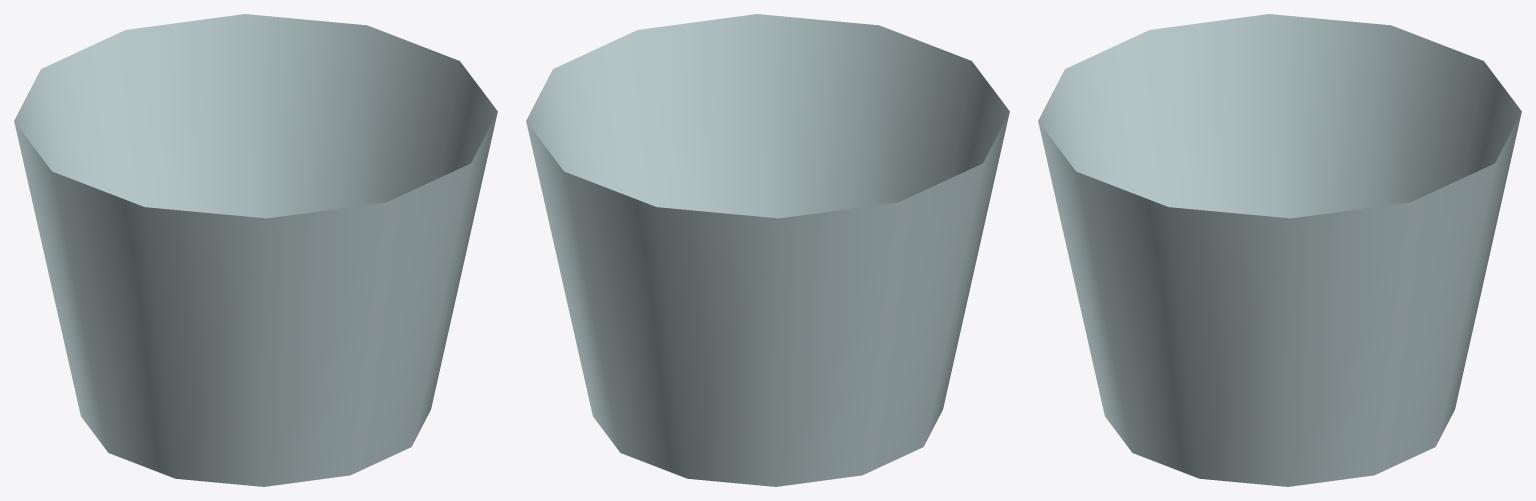
Rendered from zhucheng01_Tayun.FBX.
3 renders of one model, left to right at view 1: azimuth 30°, elevation 25°; view 2: azimuth 150°, elevation 25°; view 3: azimuth 270°, elevation 25°, orthographic.
Visible parts, largest first — view 1: Cylinder01; view 2: Cylinder01; view 3: Cylinder01.
Part boxes in pixels (box(x1,y1,x2,y2)): Cylinder01: box(14, 14, 497, 486); Cylinder01: box(526, 14, 1009, 486); Cylinder01: box(1038, 14, 1521, 486).
Size of the model in its own units: 34.18 by 23.14 by 34.18.
Materials: 1 (1 with a texture image).
